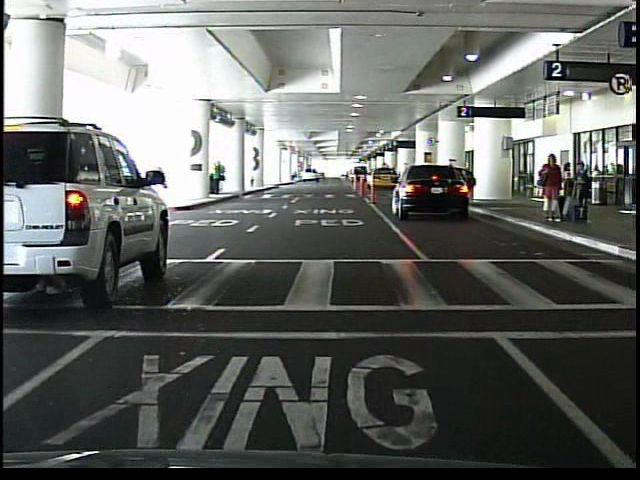person: (534, 153, 564, 224), (571, 162, 592, 225), (211, 162, 224, 198), (562, 163, 572, 200), (222, 164, 223, 196)
